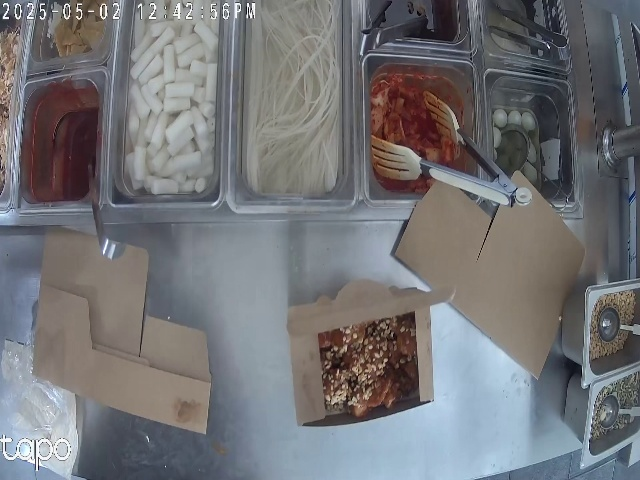delivery box: (281, 291, 445, 422)
food: (313, 329, 421, 404)
